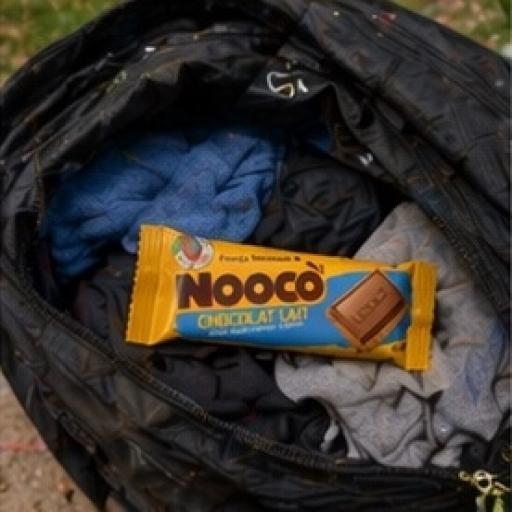biscuit-detection: (103, 192, 461, 422)
